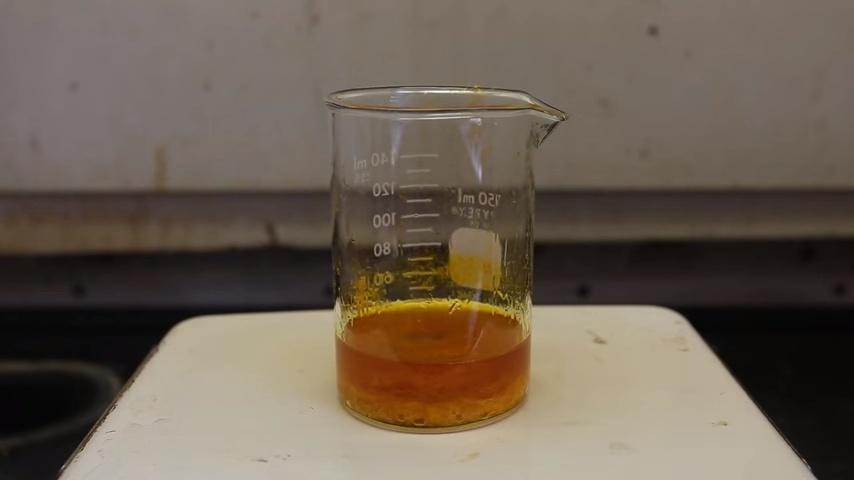Beaker: (320, 90, 572, 431)
